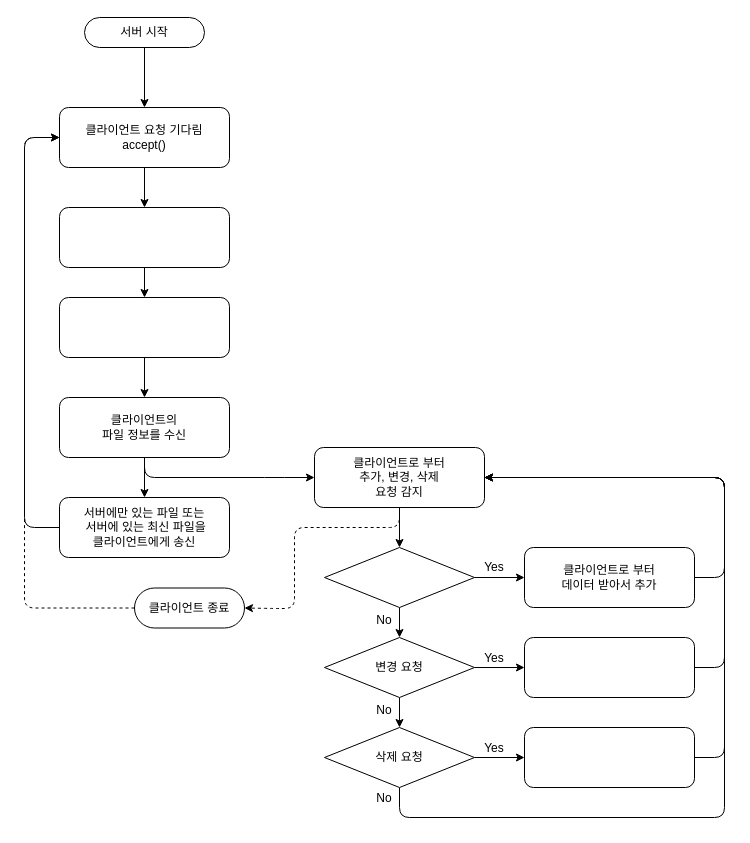
This 750x843 diagram has some shape labels left out. Each missing label, with the centre of its shape:
~/backup 디렉토리 하위 파일들 탐색 후 파일정보를 Map에 저장: [144,237]
기존 파일 삭제 후 클라이언트로 부터 데이터 받아서 추가: [609,667]
추가 요청: [399,577]
클라이언트로 부터 정보 받아서 파일 삭제: [609,757]
탐색한 파일 정보를 클라이언트에게 송신: [144,327]
